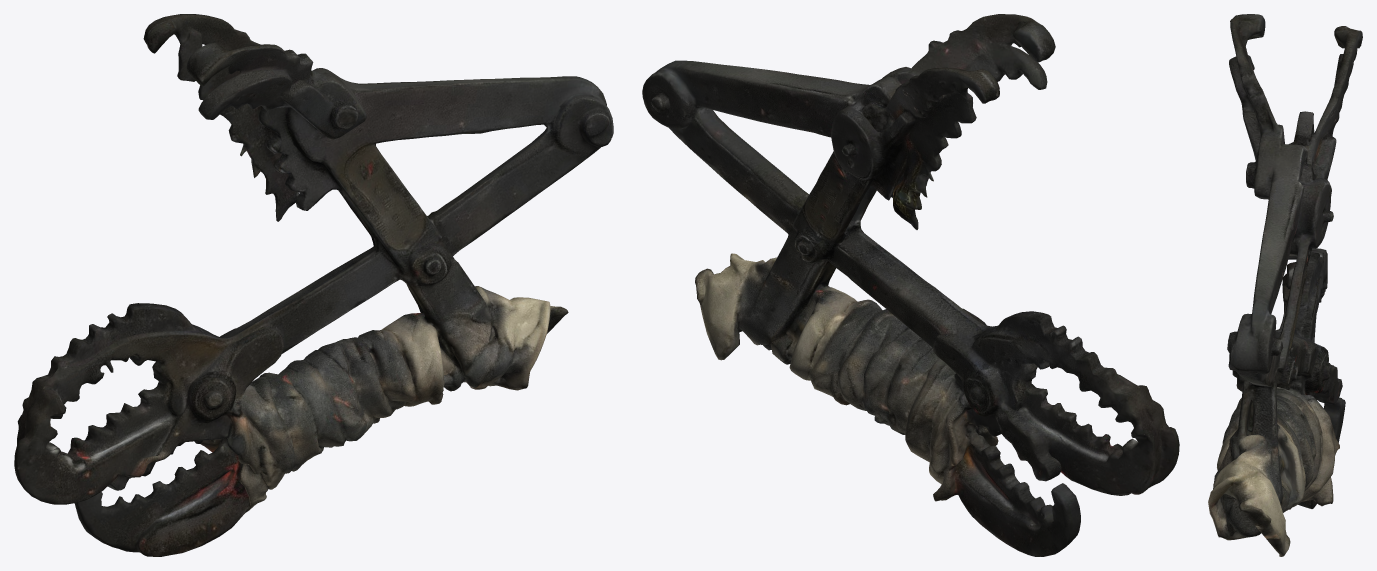
File: prop_tilly_clinker_tongs.glb
The picture shows the model from 3 angles, left to right: view 1: azimuth 30°, elevation 25°; view 2: azimuth 150°, elevation 25°; view 3: azimuth 270°, elevation 25°; orthographic projection. The views are drawn at different scales.
Bounding box in the file's own units: 0.891 × 0.771 × 0.2167.
Materials: 1 (1 with a texture image).
